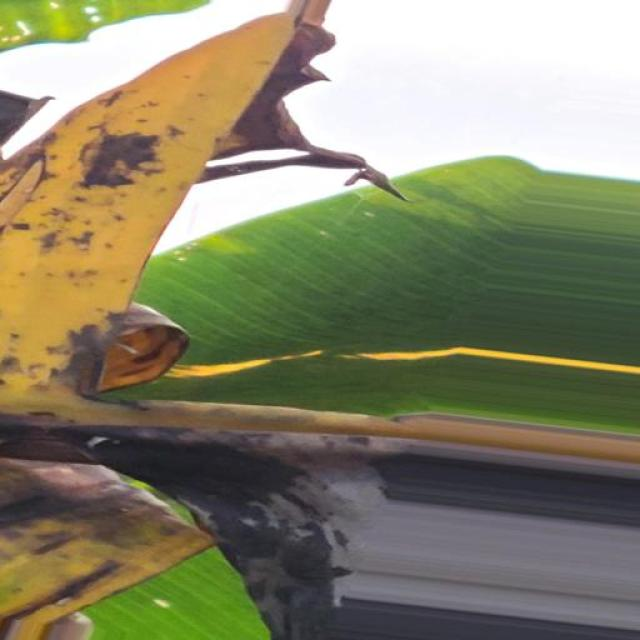Cordana: (0, 0, 374, 639), (332, 301, 640, 419)
